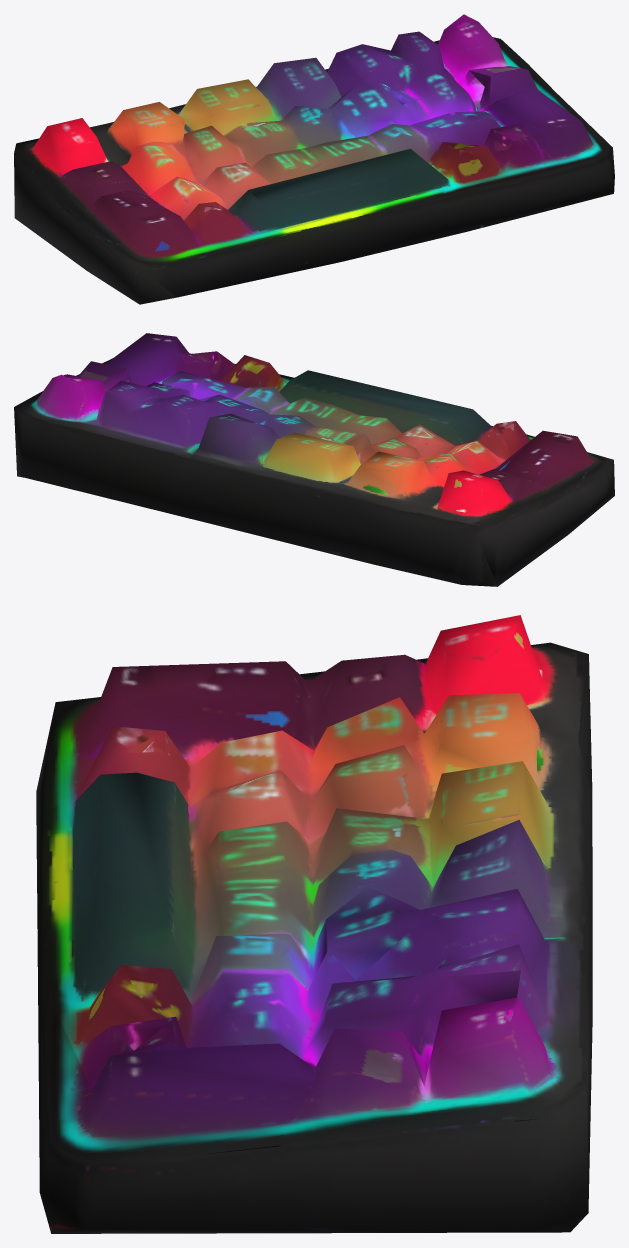
File: mechanical-keyboard.glb
The picture shows the model from 3 angles, top to bottom: view 1: azimuth 30°, elevation 25°; view 2: azimuth 150°, elevation 25°; view 3: azimuth 270°, elevation 25°; orthographic projection. The views are drawn at different scales.
Parts seen in each view (by area): view 1: geometry_0.001; view 2: geometry_0.001; view 3: geometry_0.001.
Part boxes in pixels (bbox=[...]): geometry_0.001: bbox=[14, 14, 614, 304]; geometry_0.001: bbox=[14, 333, 614, 586]; geometry_0.001: bbox=[36, 615, 592, 1233].
Size of the model in its own units: 0.9998 by 0.1997 by 0.4937.
Materials: 1 (1 with a texture image).
